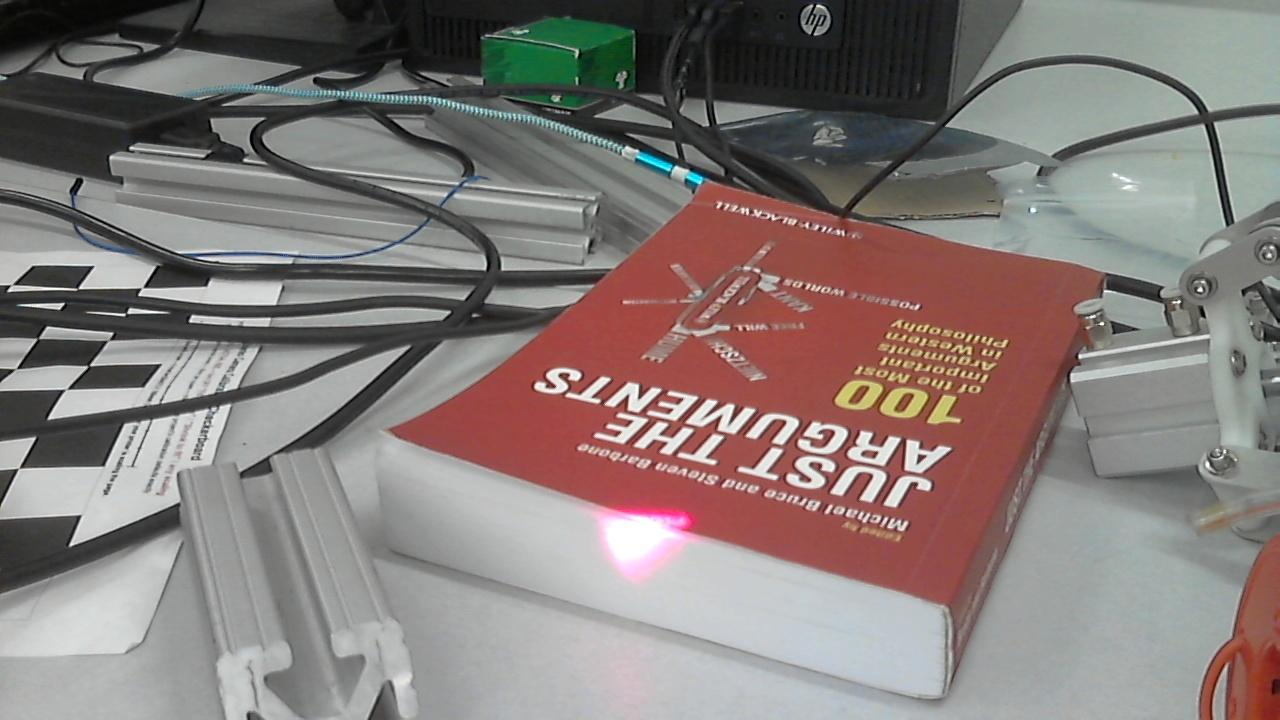Object book - Material paper - Color red - Pdfname QP9o9Hihi4G7: (597, 489, 700, 589)
